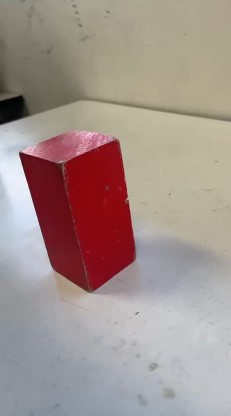red: (28, 123, 130, 285)
